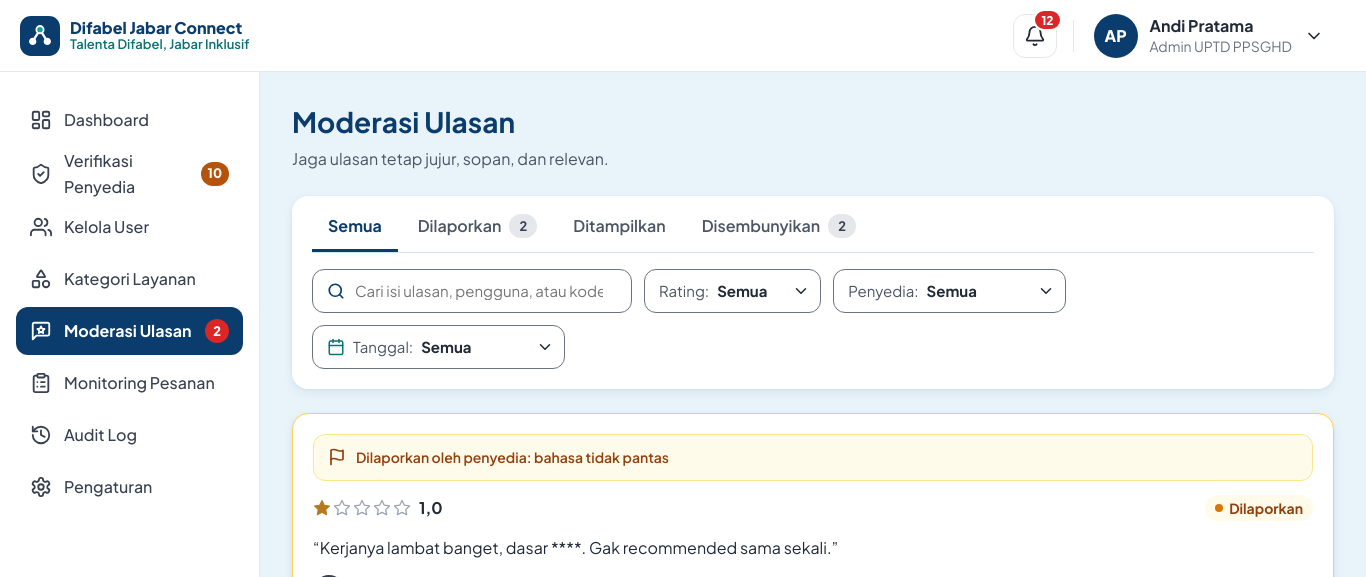
Test case: Moderasi Ulasan › filter rating dan pencarian
Select "5 bintang" in the dropdown labelled "Rating:" at (764,291), box x1=717 y1=271 x2=810 y2=311
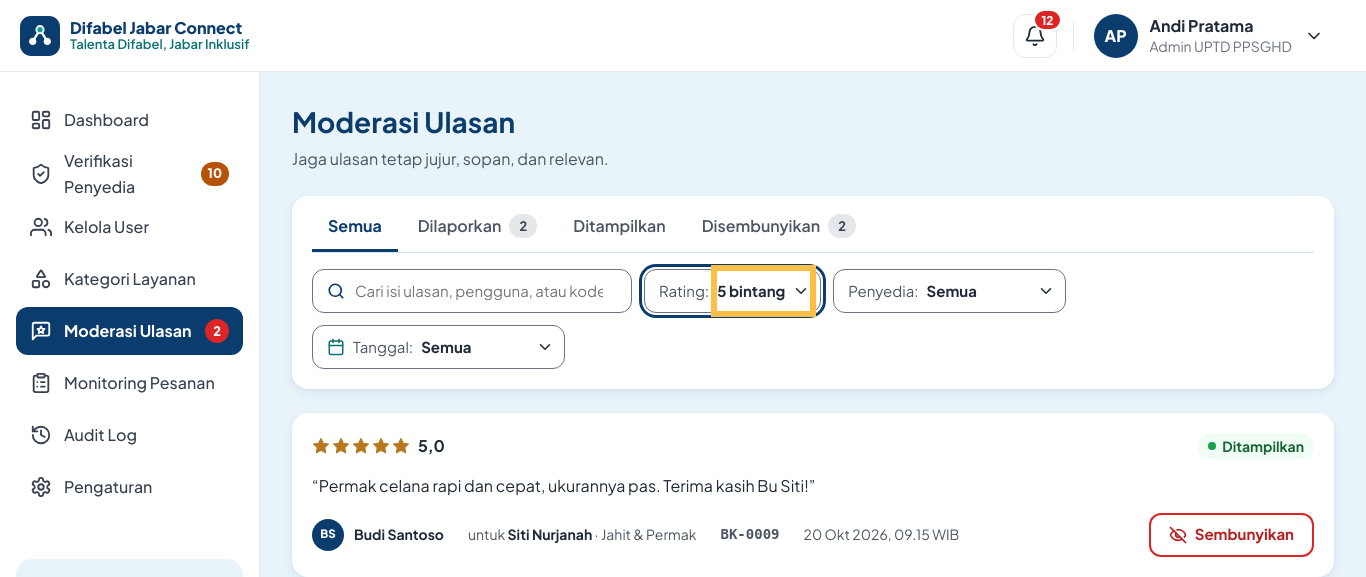
Type "zzz" into the search field.
click(486, 291); type("zzz")  # box x1=353 y1=271 x2=619 y2=311
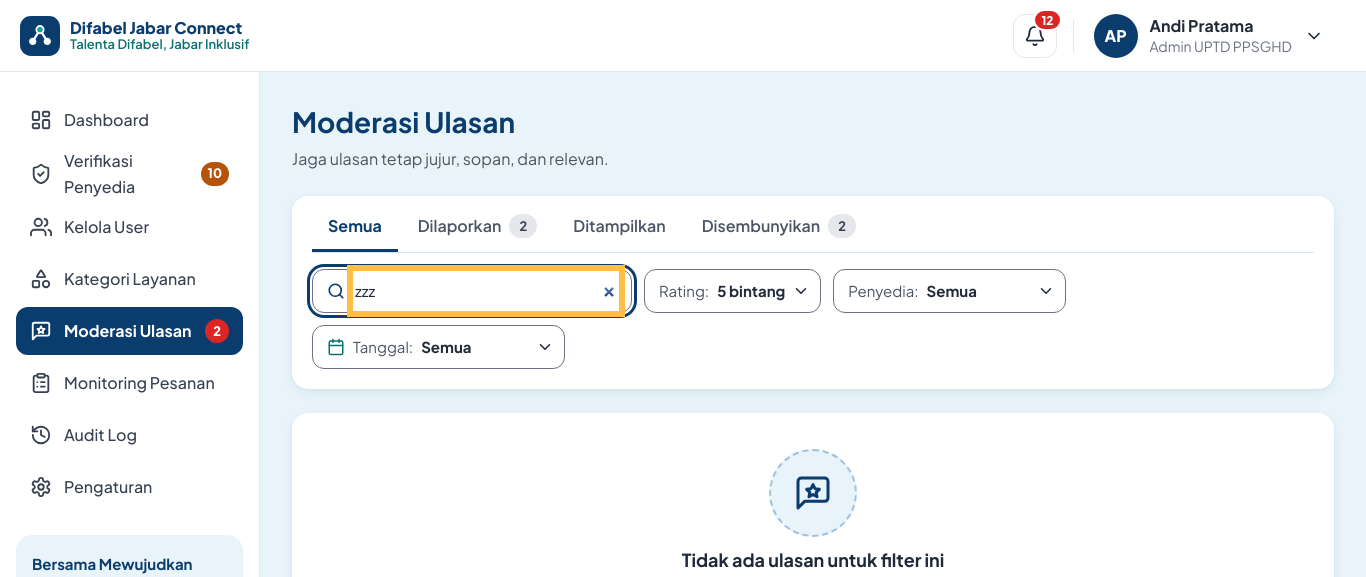
Expected: the heading "Tidak ada ulasan untuk filter ini" is shown, x1=682 y1=549 x2=944 y2=571
